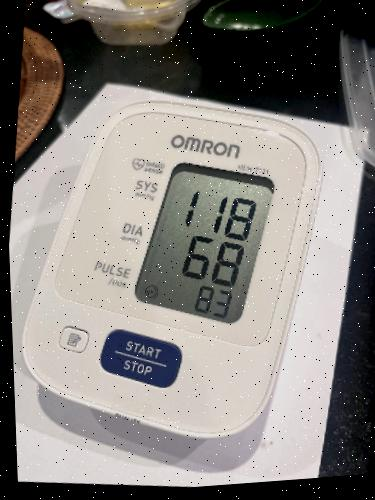bpm: (126, 149, 281, 330)
